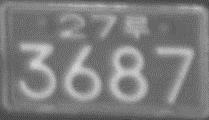2: (58, 13, 87, 41)
3: (17, 40, 57, 100)
6: (64, 44, 103, 102)
7: (154, 44, 195, 105), (90, 12, 119, 40)
8: (109, 45, 148, 104)
루: (124, 14, 150, 39)
